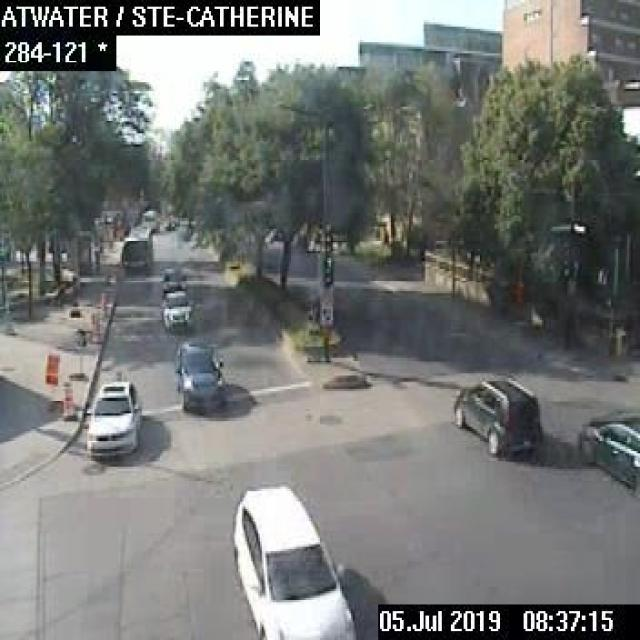bus: (120, 224, 151, 276), (140, 208, 158, 230)
construction: (43, 352, 58, 406), (60, 378, 73, 418), (88, 311, 96, 342), (99, 292, 106, 316)
vehicle: (230, 483, 356, 638), (449, 373, 540, 458), (575, 409, 638, 491), (82, 378, 141, 458), (171, 336, 225, 411), (161, 290, 192, 331), (160, 267, 185, 294)
